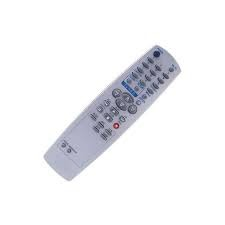remote control: (38, 33, 186, 182)
